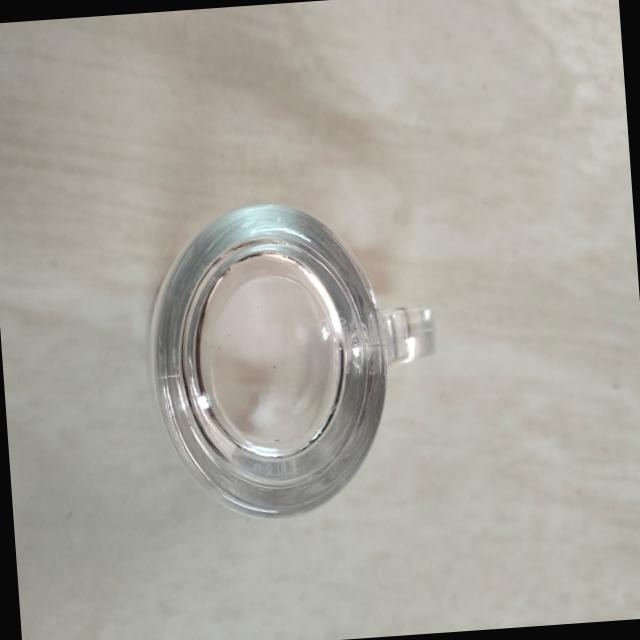glass-VX4N: (136, 190, 447, 527)
